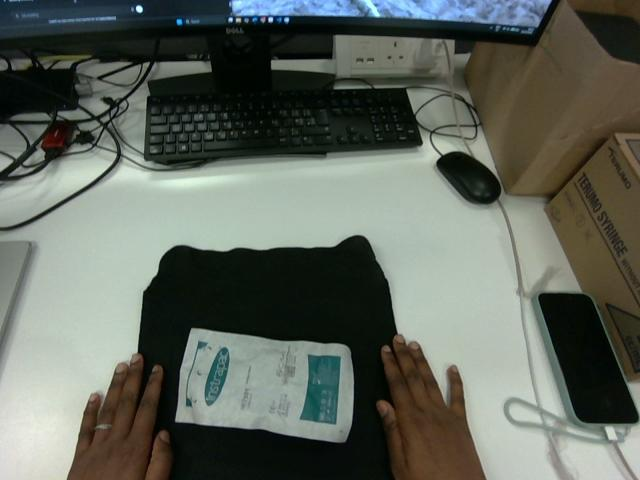gallipot: (175, 328, 353, 442)
